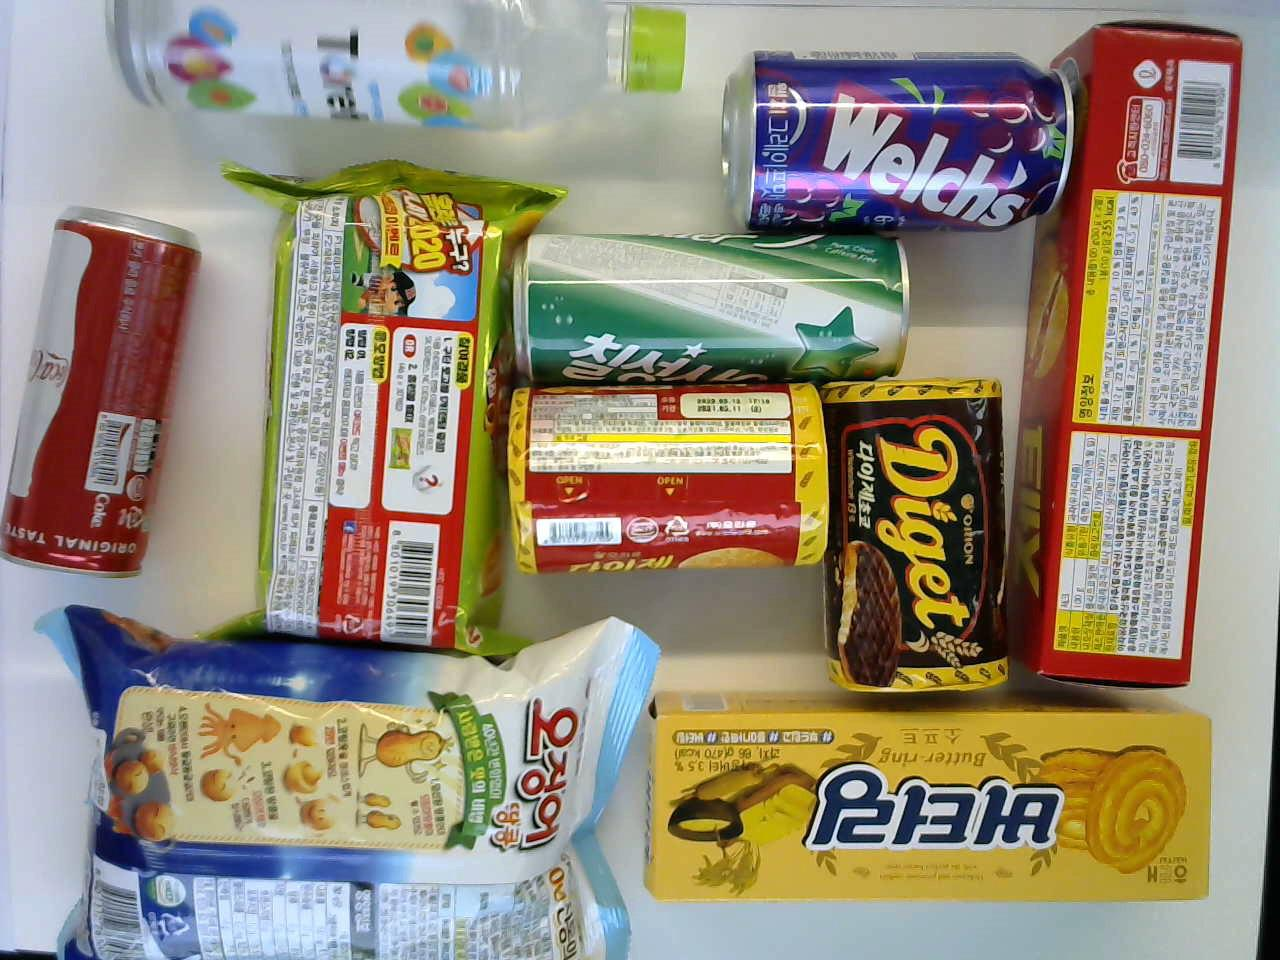buttering: (653, 696, 1206, 894)
cidar: (515, 232, 898, 367)
coke: (2, 210, 188, 576)
diget_choco: (831, 378, 996, 690)
diget_ori: (512, 382, 814, 574)
homerunball: (268, 178, 497, 638)
squid_peanut: (62, 658, 615, 959)
toreta: (123, 0, 699, 132)
welchs: (718, 55, 1069, 222)
zec: (1029, 35, 1239, 671)
